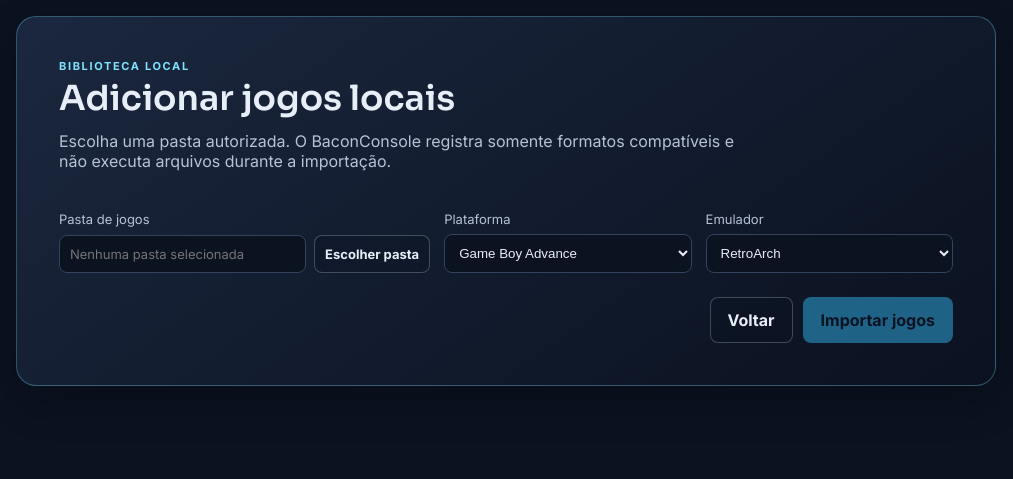
Test case: LocalImportPanel › explains when no compatible emulator is detected
Select "PS1" in the dropdown labelled "Plataforma" at (568, 254), box [444,234,692,273]
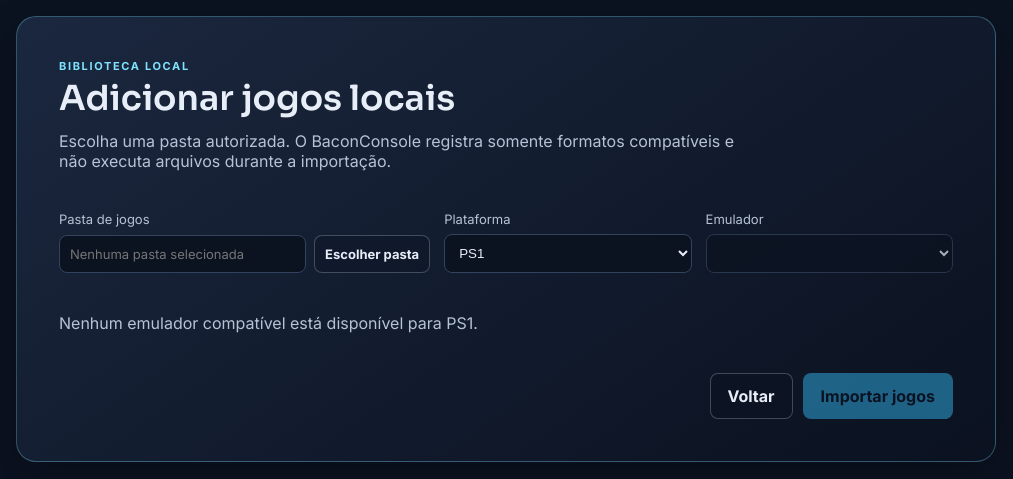
Expected: the button "Importar jogos" is disabled, [803,373,953,419]
Result: the text "Nenhum emulador compatível está disponível para PS1." is shown at [59,313,478,333]
